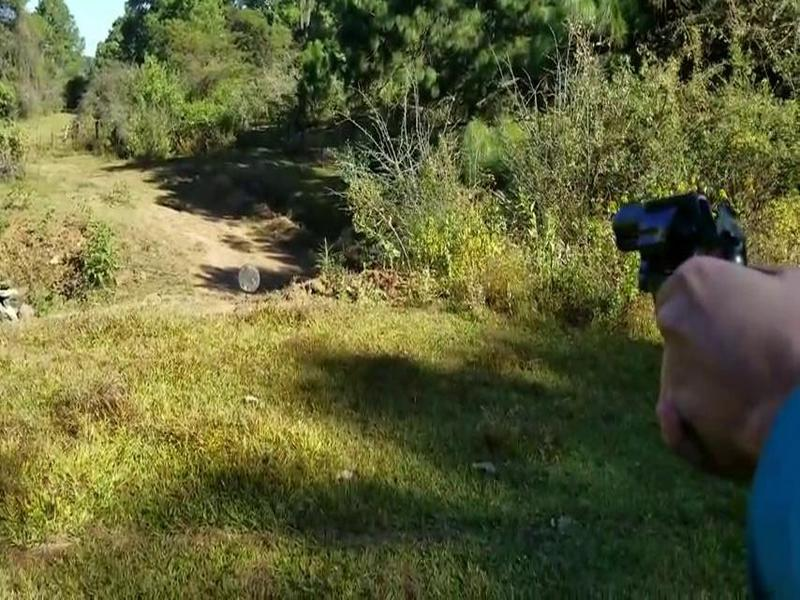Revolver: (609, 192, 765, 312)
